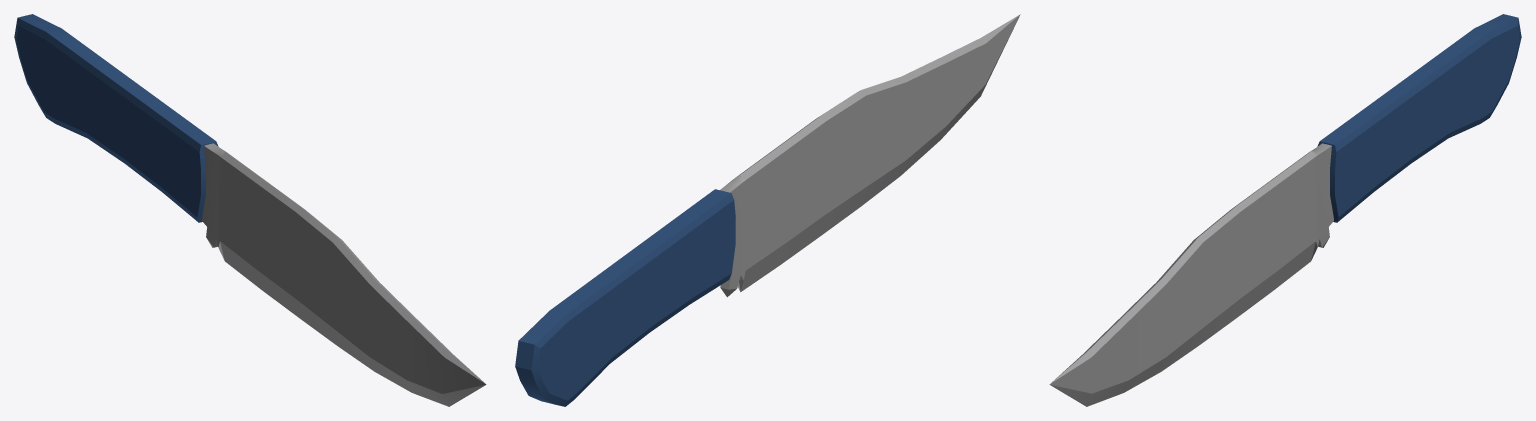
File: Tool_Knife.fbx
3 renders of one model, left to right at view 1: azimuth 30°, elevation 25°; view 2: azimuth 150°, elevation 25°; view 3: azimuth 330°, elevation 25°, orthographic. The views are drawn at different scales.
Parts seen in each view (by area): view 1: Tool_Common_Knife; view 2: Tool_Common_Knife; view 3: Tool_Common_Knife.
Boxes of the visible parts, <box> form: Tool_Common_Knife: <box>14,14,486,406</box>; Tool_Common_Knife: <box>515,14,1020,406</box>; Tool_Common_Knife: <box>1049,14,1521,406</box>.
Bounding box in the file's own units: 1.05 × 5.81 × 43.59.
